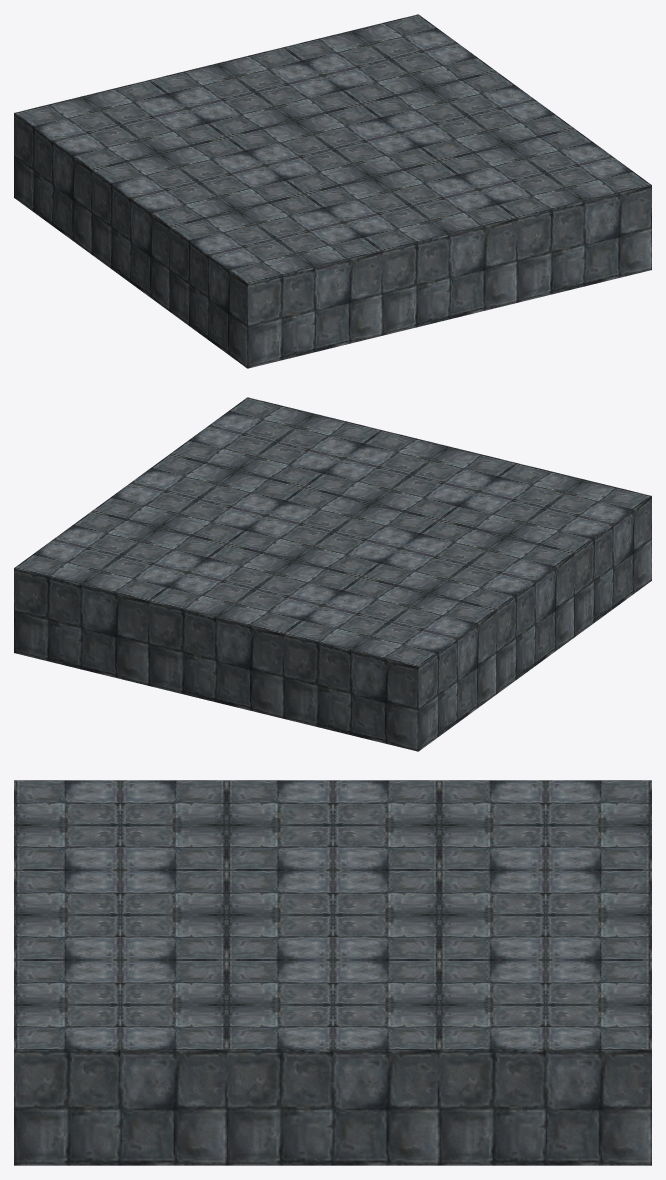
Rendered from bottom-floor-02-3x3.fbx.
3 renders of one model, top to bottom at view 1: azimuth 30°, elevation 25°; view 2: azimuth 150°, elevation 25°; view 3: azimuth 270°, elevation 25°, orthographic. The views are drawn at different scales.
Parts seen in each view (by area): view 1: Plane.026; view 2: Plane.026; view 3: Plane.026.
Part boxes in pixels (x1=…): Plane.026: x1=14, y1=14, x2=651, y2=368; Plane.026: x1=14, y1=397, x2=651, y2=751; Plane.026: x1=14, y1=780, x2=651, y2=1165.
Bounding box in the file's own units: 3 × 0.6014 × 3.
